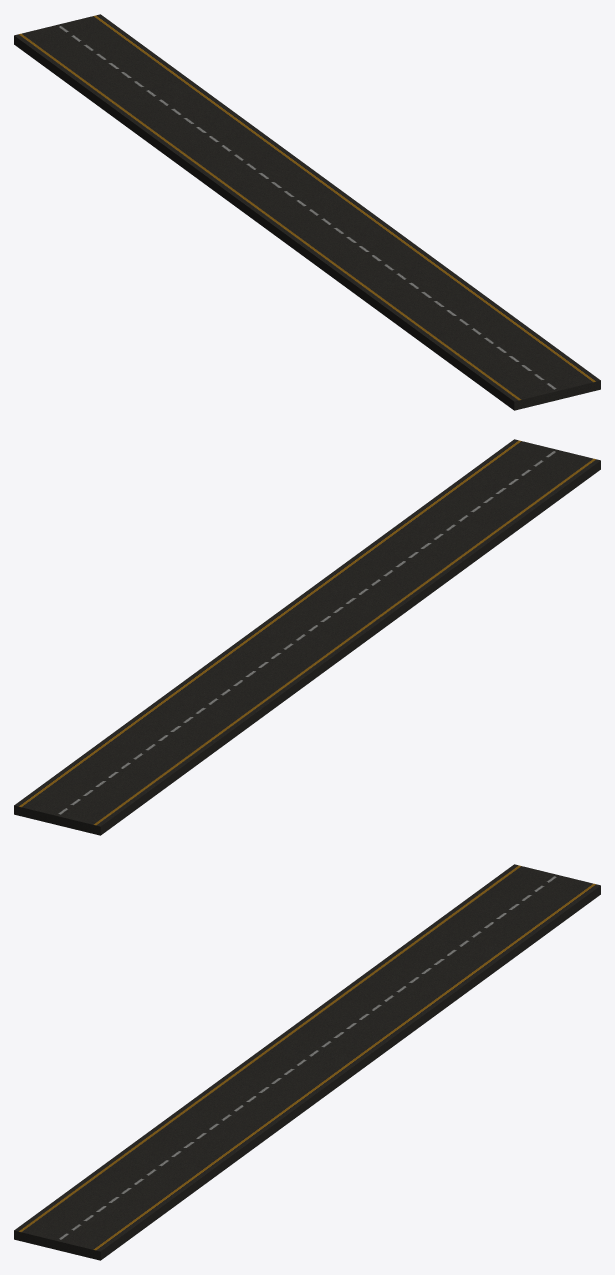
File: Road.fbx
The picture shows the model from 3 angles, top to bottom: view 1: azimuth 30°, elevation 25°; view 2: azimuth 150°, elevation 25°; view 3: azimuth 330°, elevation 25°; orthographic projection.
Visible parts, largest first — view 1: Cube.001; view 2: Cube.001; view 3: Cube.001.
Boxes of the visible parts, bbox=[...] form: Cube.001: bbox=[14, 14, 600, 410]; Cube.001: bbox=[14, 439, 600, 835]; Cube.001: bbox=[14, 864, 600, 1260].
Size of the model in its own units: 1000 by 100 by 10000.
1 material, 1 textured.
